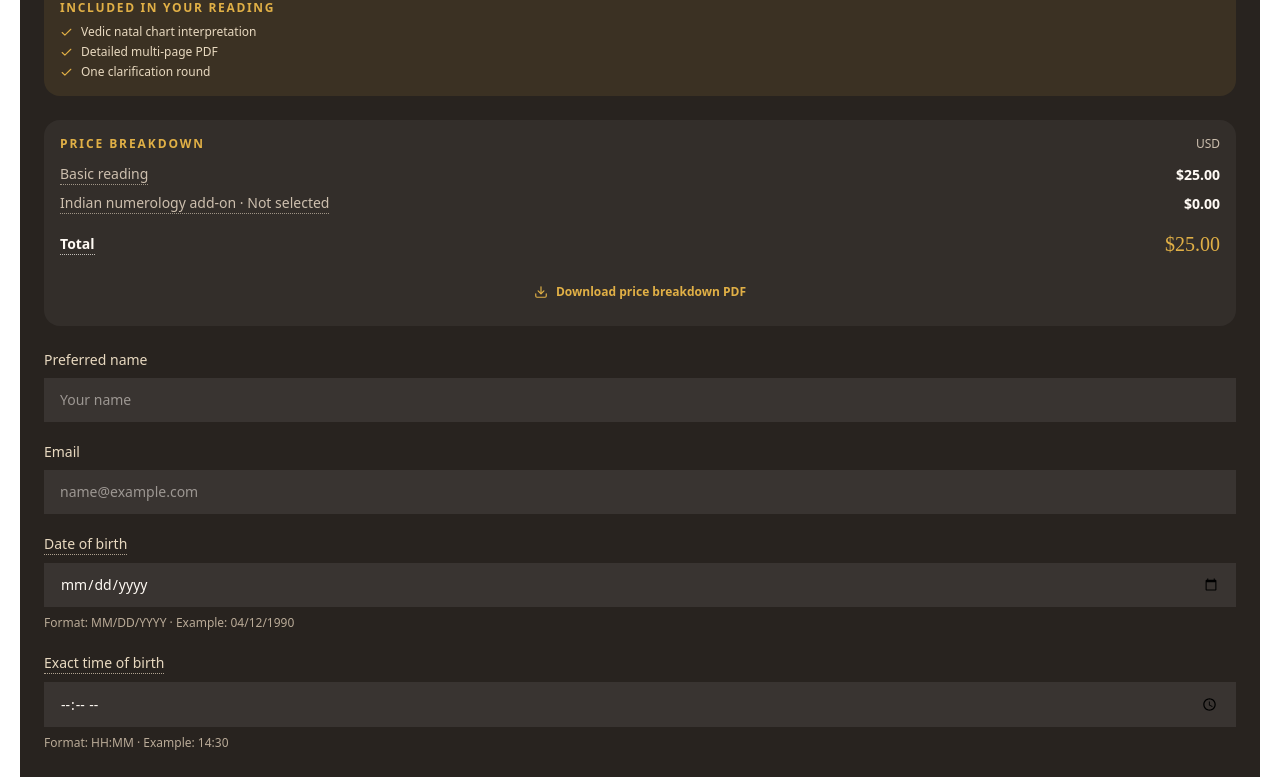
it: Home booking payment UX › highlights and shakes the consent block when submitting without acceptance
(page scrolled)
Type "Maya" into the field labelled "Preferred name" at (640,400), box [44, 378, 1236, 422]
Type "maya@example.com" into the field labelled "Email" at (640,492), box [44, 470, 1236, 514]
Type "1990-04-12" into the date field named "Date of birth" at (640,585), box [44, 563, 1236, 607]
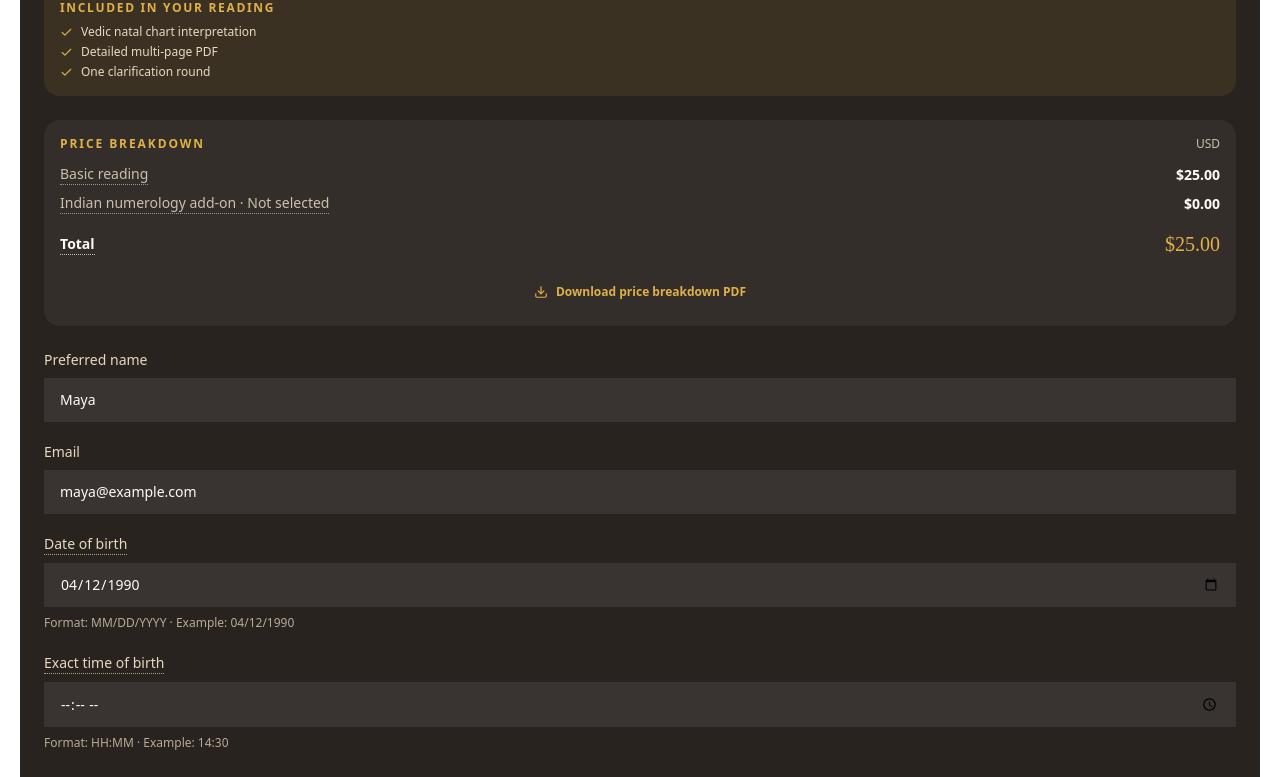
Type "14:30" into the time field named "Exact time of birth" at (640,705), box [44, 682, 1236, 727]
(page scrolled)
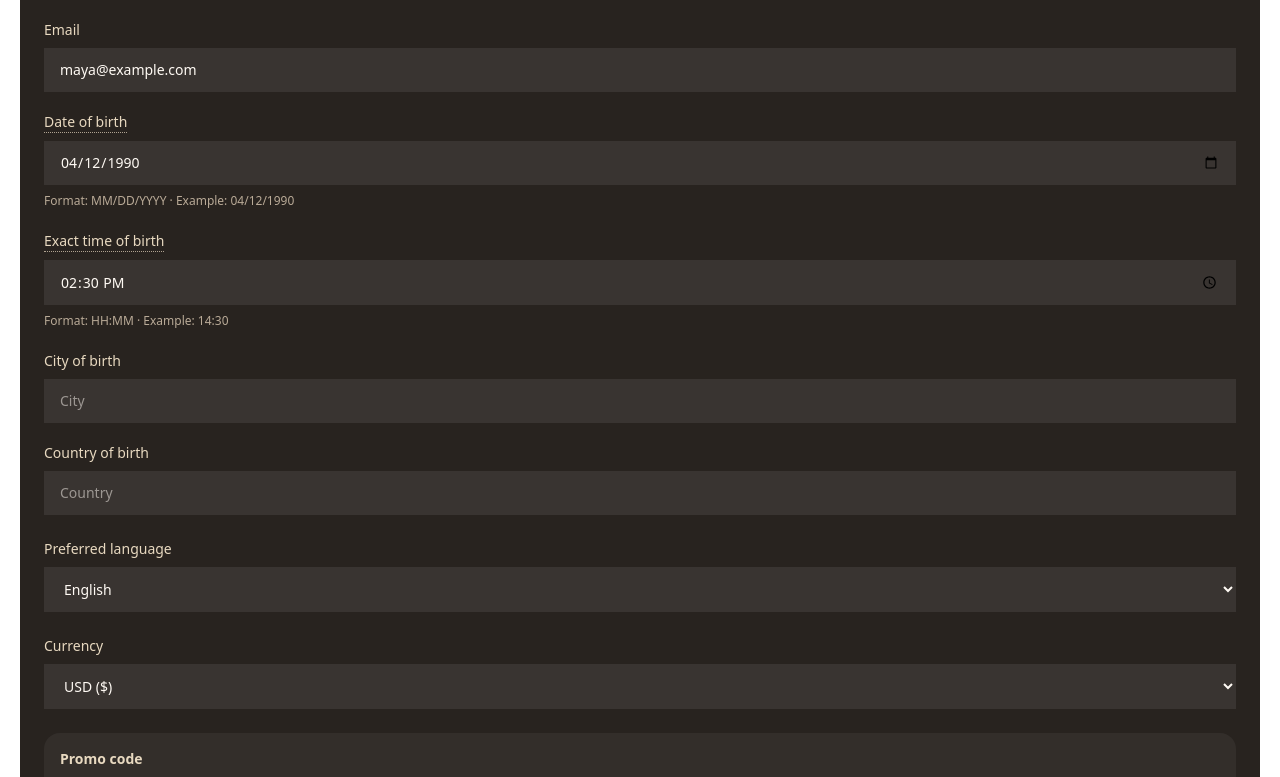
Type "Delhi" into the field labelled "City of birth" at (640,401), box [44, 379, 1236, 423]
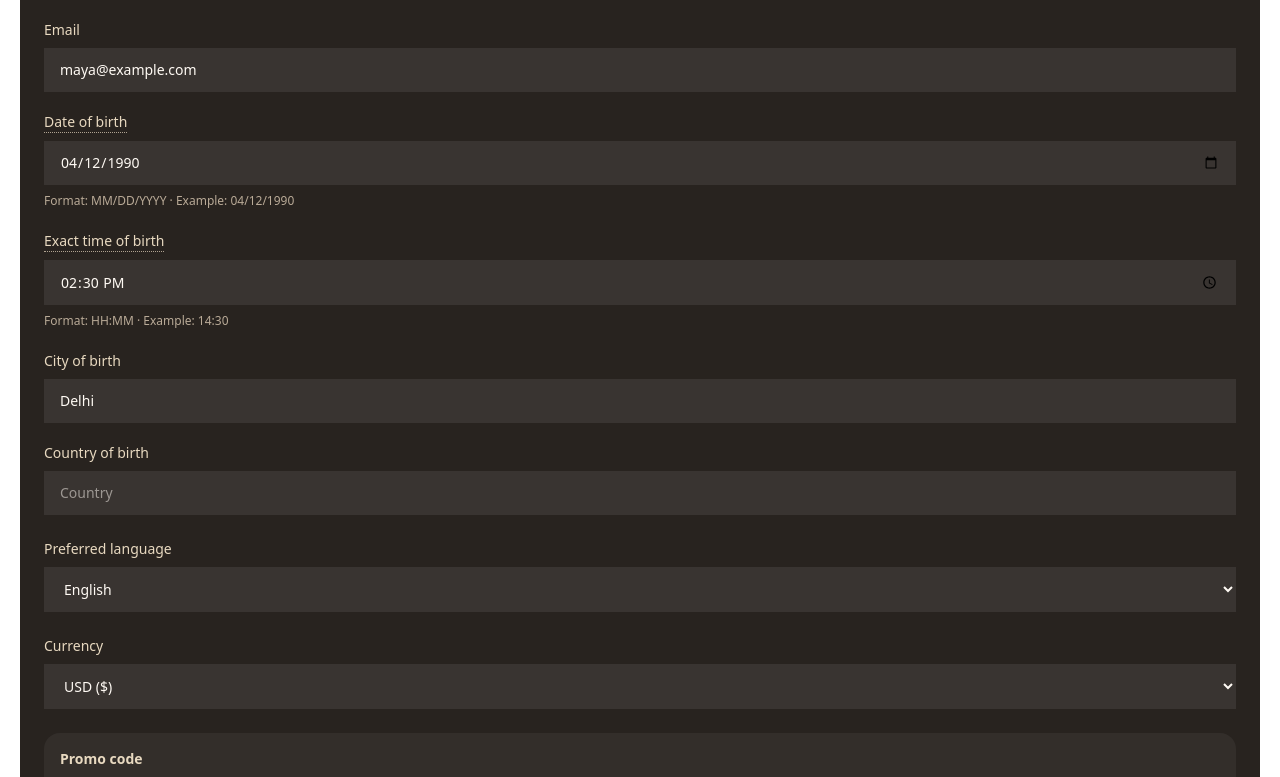
Type "India" into the field labelled "Country of birth" at (640,493), box [44, 471, 1236, 515]
(page scrolled)
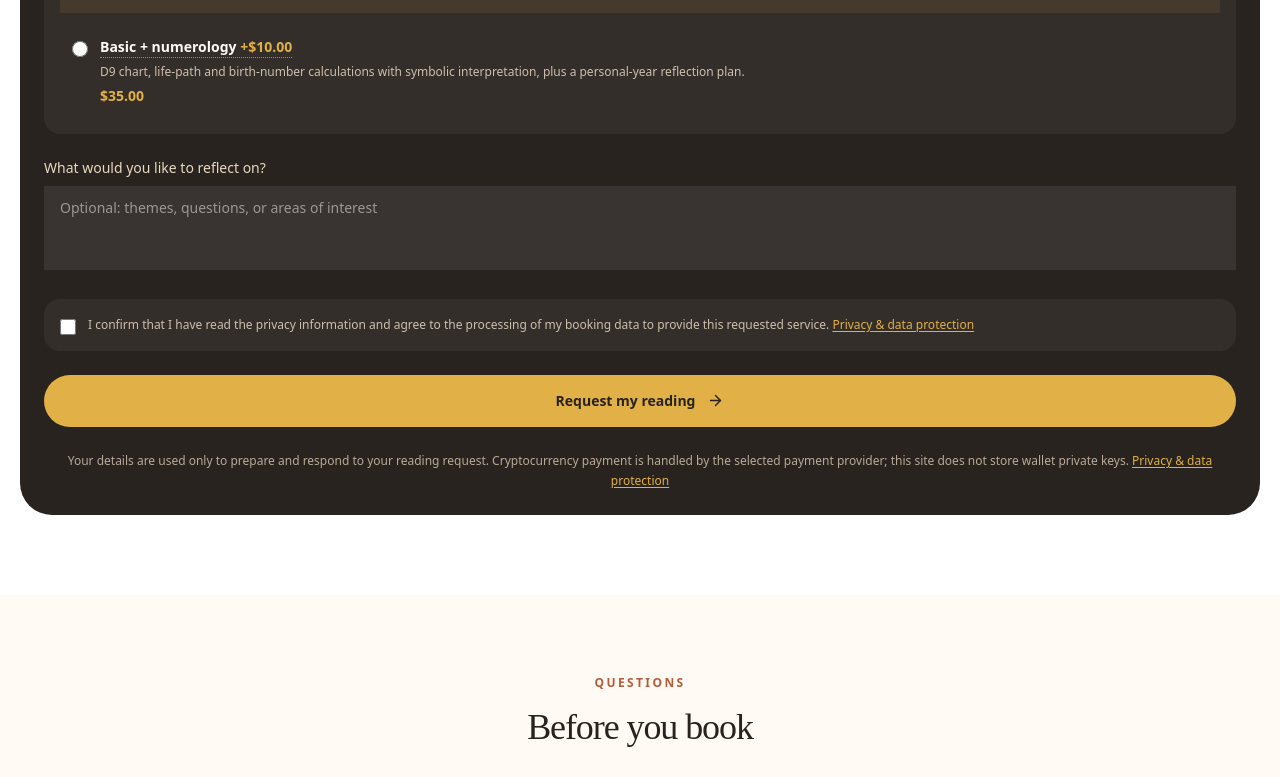
Click the button "Request my reading" at (640,401), box [44, 375, 1236, 427]
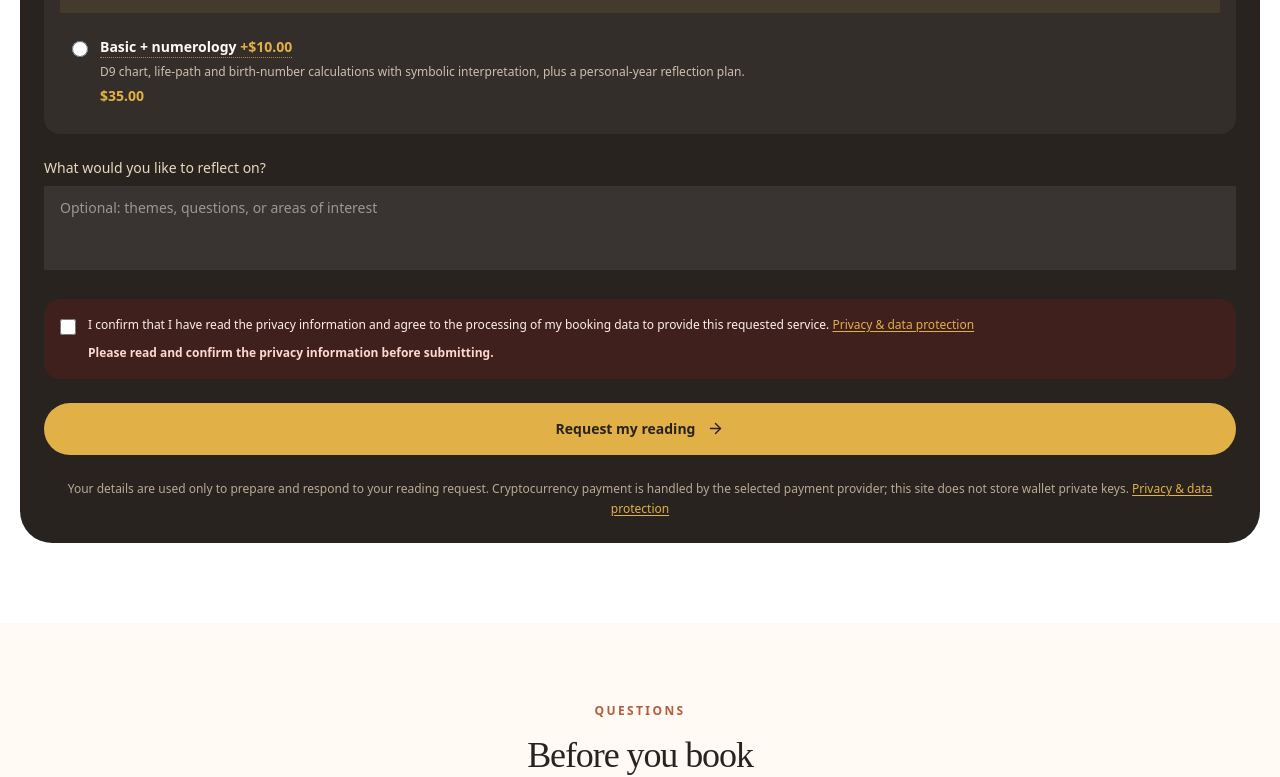
Expected: the message reads "Please read and confirm the privacy information before submitting.", [88, 344, 494, 361]
Click the checkbox named "Privacy consent" at (68,327), box [60, 319, 76, 335]
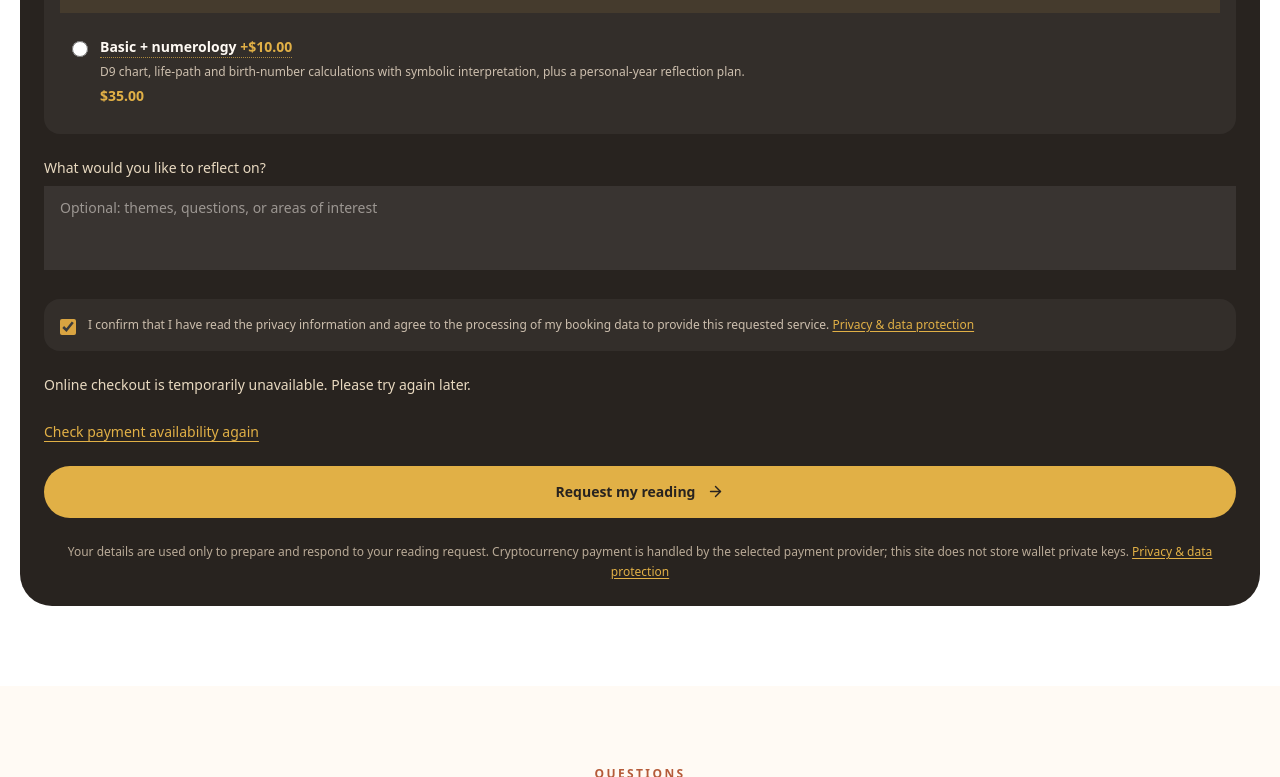
Expected: the text "Please read and confirm the privacy information before submitting." is gone
